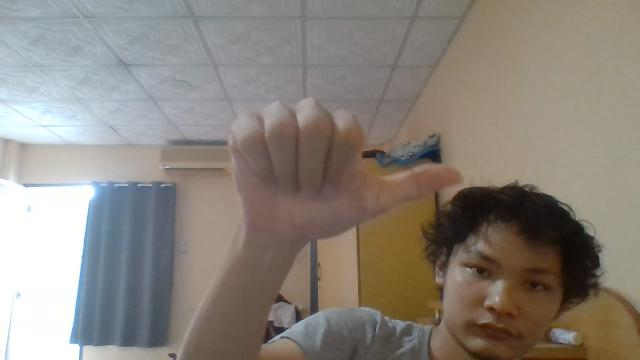left: (228, 96, 462, 242)
